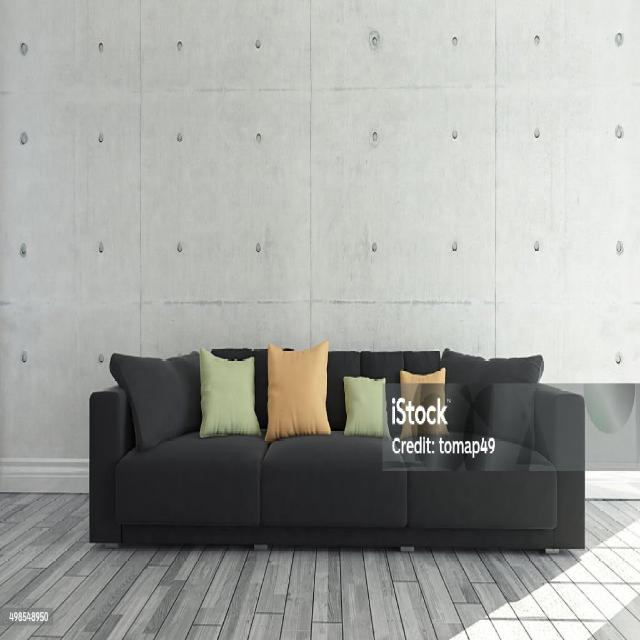back_cushion: (326, 349, 543, 447), (109, 351, 201, 450), (218, 349, 268, 433)
base: (122, 526, 414, 545), (452, 529, 551, 549)
left_arm: (533, 384, 584, 546)
legs: (399, 546, 414, 552), (254, 544, 269, 550), (104, 543, 118, 548), (544, 549, 559, 553)
right_arm: (89, 387, 134, 541)
seat_cushion: (116, 431, 559, 528)
stallion-sofa: (0, 0, 639, 639)
